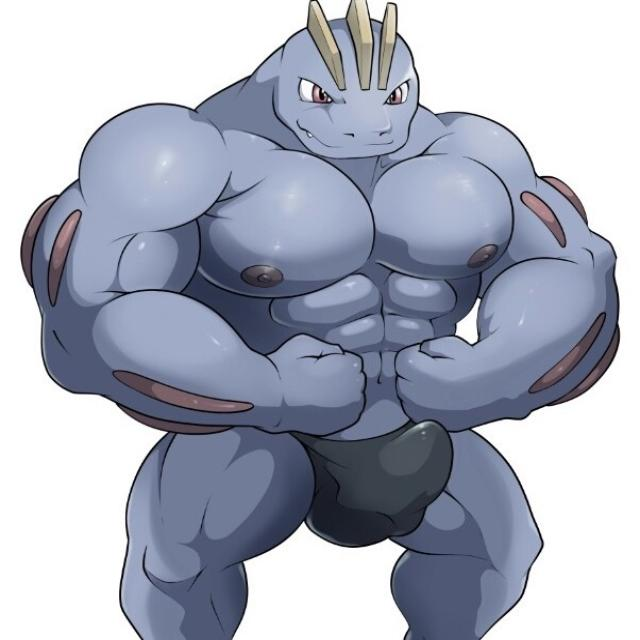Machoke: (13, 0, 622, 640)
